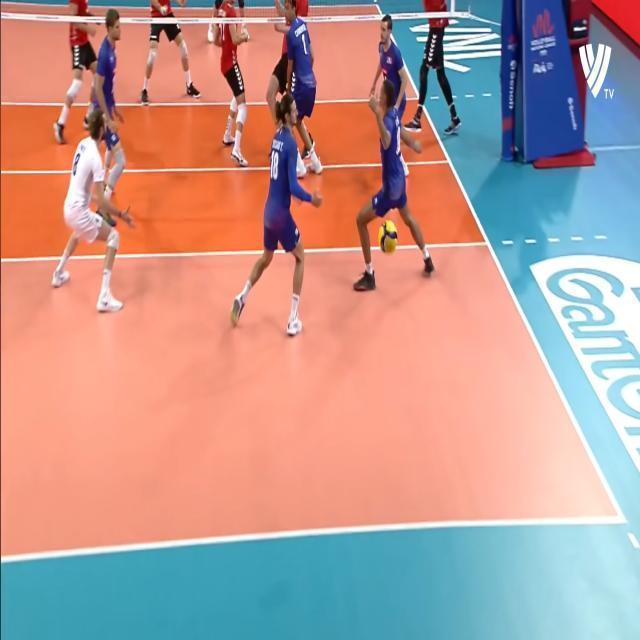volleyball: (378, 220, 398, 254)
